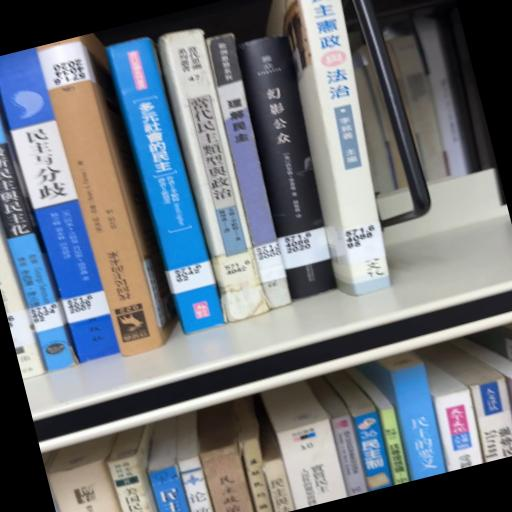reverse: (36, 33, 176, 355)
